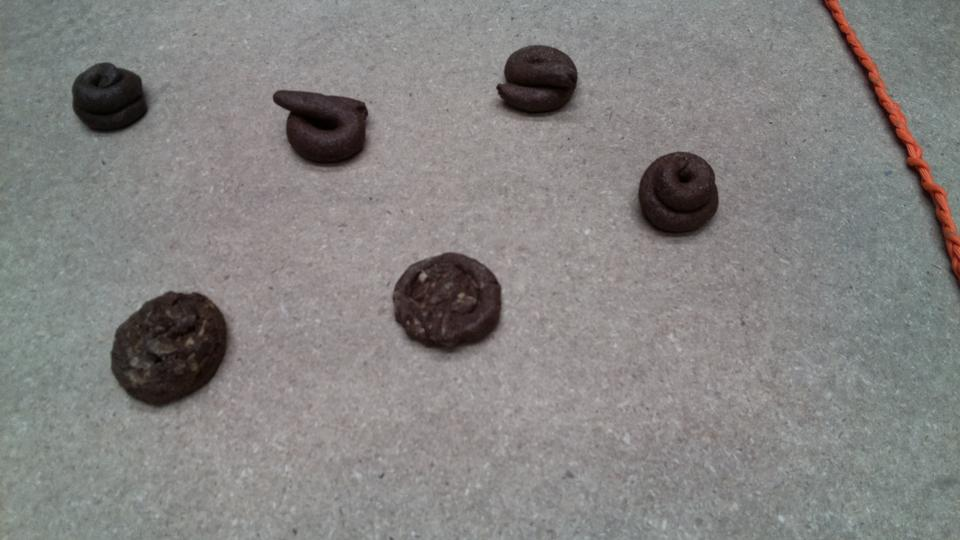poop: (106, 285, 230, 412), (390, 247, 506, 355), (270, 87, 373, 167), (635, 149, 722, 242), (494, 42, 580, 118), (69, 59, 148, 138)
rope: (822, 1, 960, 273)
